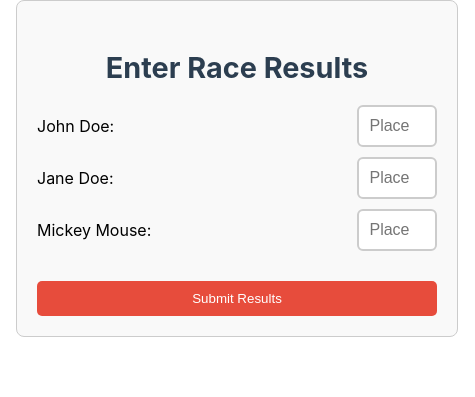
RaceResults Component › displays an error message for invalid place values (less than 1)
Note: Assign invalid place (0) to John
Type "0" into the number field with placeholder "Place" in the row of "John Doe" at {"x": 397, "y": 126}, box [357, 105, 437, 147]
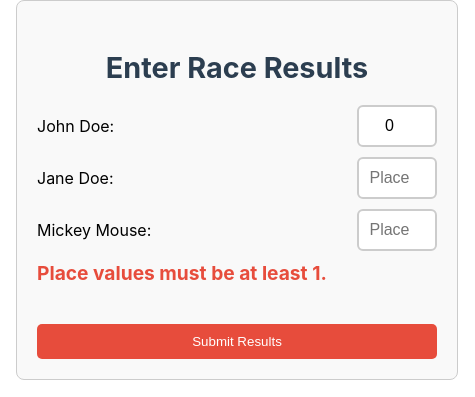
Note: Assign valid places to others
Type "2" into the number field with placeholder "Place" in the row of "Jane Doe" at {"x": 397, "y": 178}, box [357, 157, 437, 199]
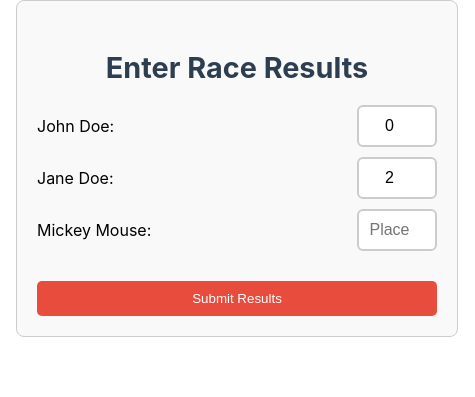
Type "3" into the number field with placeholder "Place" at {"x": 397, "y": 230}, box [357, 209, 437, 251]
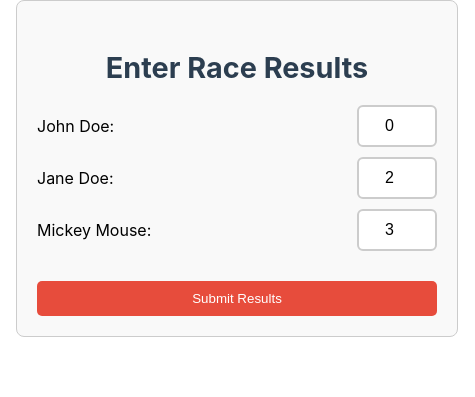
Click the button "Submit Results" at {"x": 237, "y": 298}, box [37, 281, 437, 316]
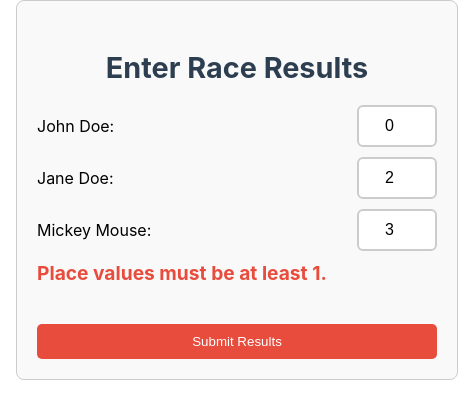
Expected: the text "Place values must be at least 1." is shown, [37, 261, 327, 285]
